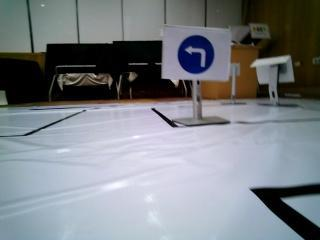left: (166, 24, 231, 83)
